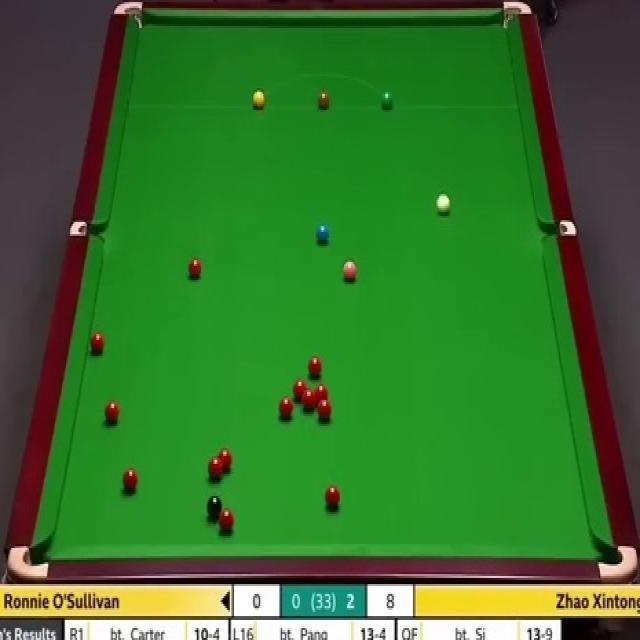black-ball: (207, 496, 223, 523)
blue-ball: (316, 222, 330, 245)
brown-ball: (318, 88, 330, 110)
green-ball: (380, 92, 393, 111)
pink-ball: (343, 260, 357, 281)
red-ball: (324, 484, 342, 511), (121, 467, 139, 494), (88, 332, 105, 358), (104, 398, 120, 425), (218, 508, 234, 535), (208, 456, 224, 480), (279, 396, 294, 421), (218, 446, 232, 471), (308, 356, 322, 380), (292, 378, 306, 402), (188, 257, 202, 278), (318, 400, 331, 421), (315, 385, 328, 405), (302, 389, 315, 408)
white-ball: (435, 192, 450, 218)
yellow-ball: (252, 90, 265, 111)
